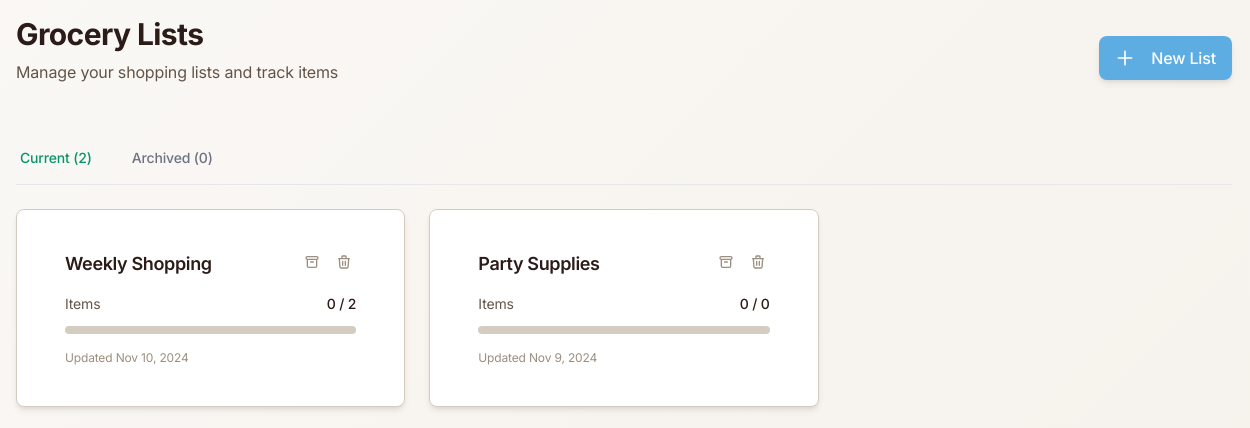
Test: GroceryListsPage › Archive/Unarchive functionality › should archive a list when archive button is clicked
This screenshot has width=1250, height=428.
Check: the heading "Grocery Lists" is shown, box [16,16,203,52]
Check: the heading "Weekly Shopping" is shown, box [65,253,212,274]
Note: Find and click archive button
Click the button named "archive list" at (312,262), box [300,250,324,274]
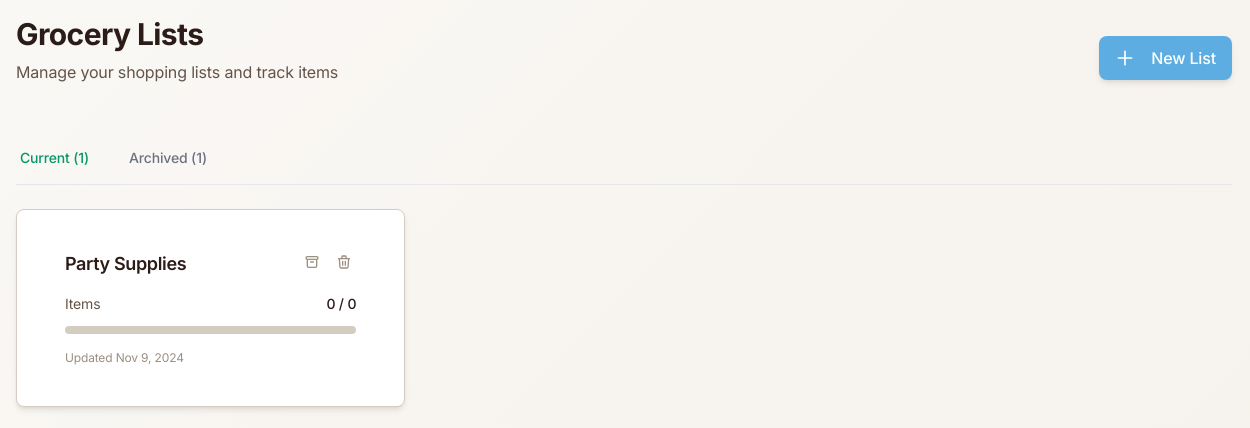
Check: the link "Weekly Shopping" is gone
